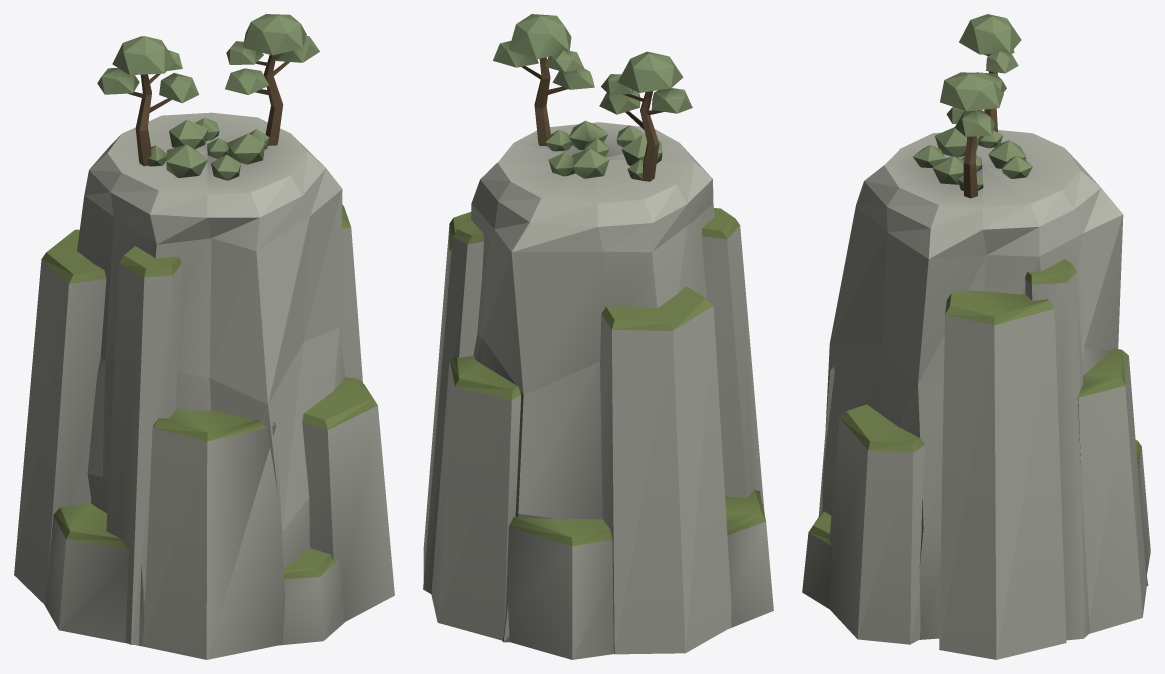
The model's file is karst_big.glb.
The picture shows the model from 3 angles, left to right: view 1: azimuth 30°, elevation 25°; view 2: azimuth 150°, elevation 25°; view 3: azimuth 270°, elevation 25°; orthographic projection. The views are drawn at different scales.
Parts seen in each view (by area): view 1: karst_big; view 2: karst_big; view 3: karst_big.
Part boxes in pixels (bbox=[...]): karst_big: bbox=[14, 14, 394, 659]; karst_big: bbox=[423, 14, 773, 659]; karst_big: bbox=[802, 14, 1150, 659].
Bounding box in the file's own units: 29.39 × 46.86 × 27.54.
